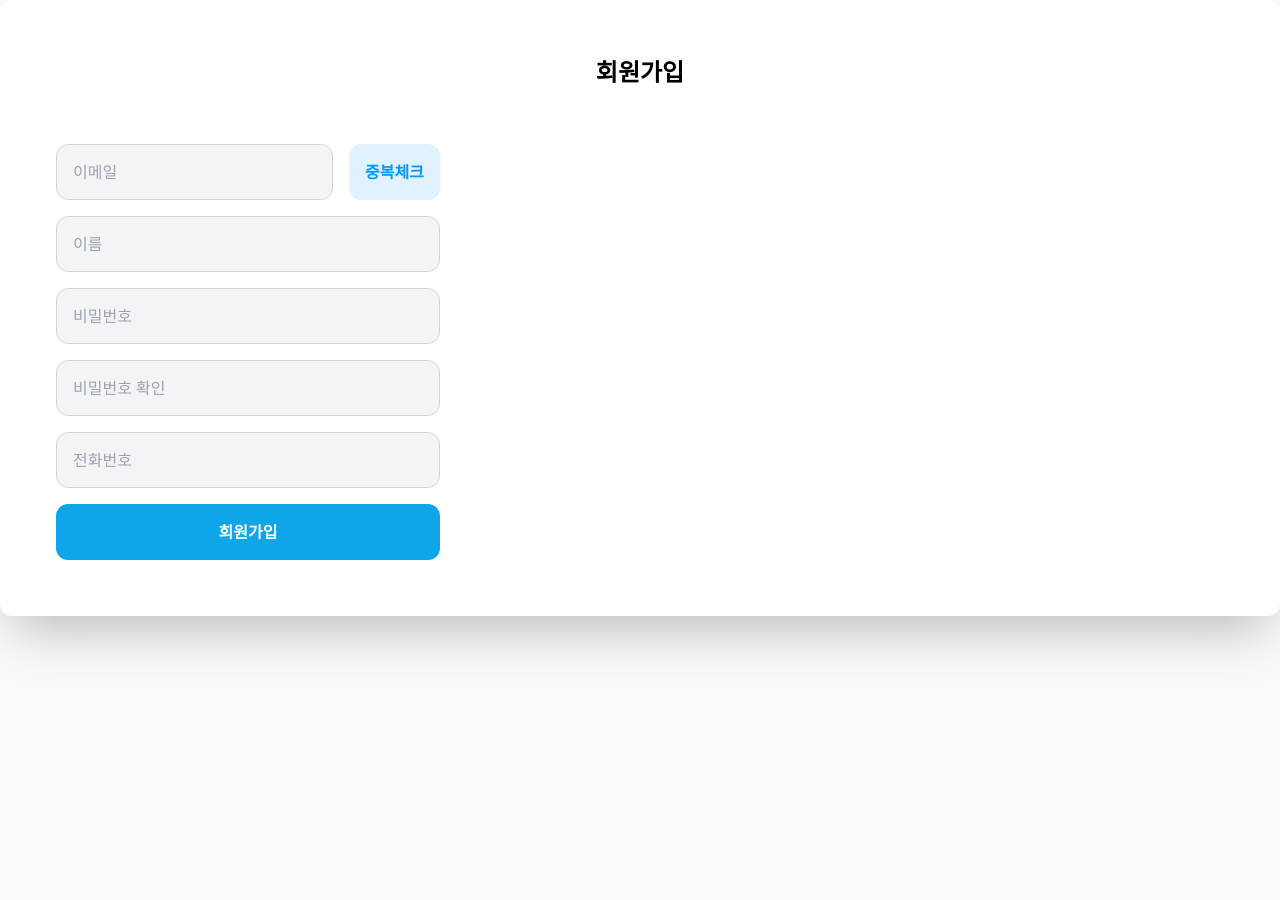
SignupForm › shows a safe fallback when the signup request fails without a response
In the field with placeholder "이메일": (195, 172) top-left (56, 144), bottom-right (333, 200), type "owner@example.com"
In the field with placeholder "이름": (248, 244) top-left (56, 216), bottom-right (440, 272), type "세차장주인"
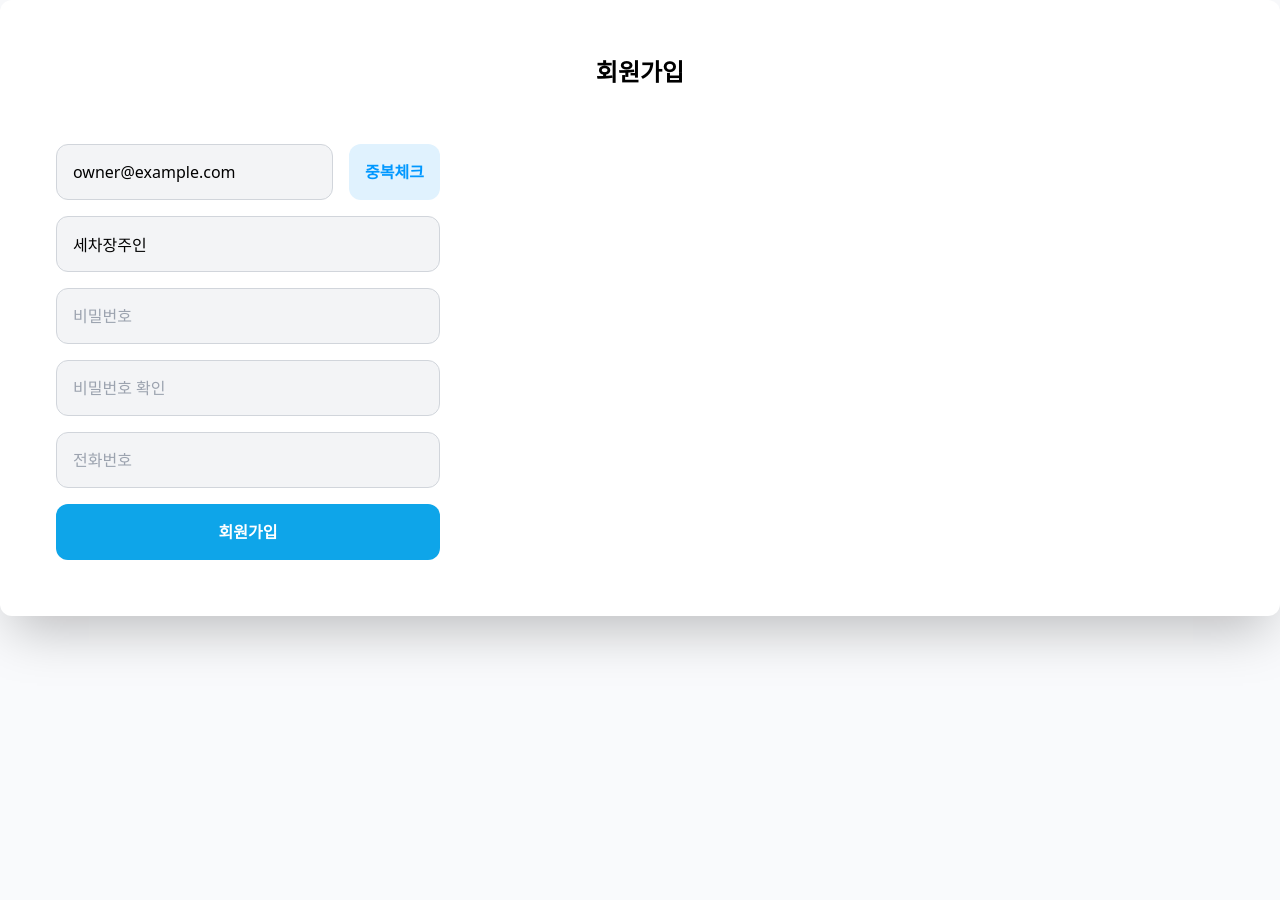
In the password field with placeholder "비밀번호": (248, 316) top-left (56, 288), bottom-right (440, 344), type "Password1!"
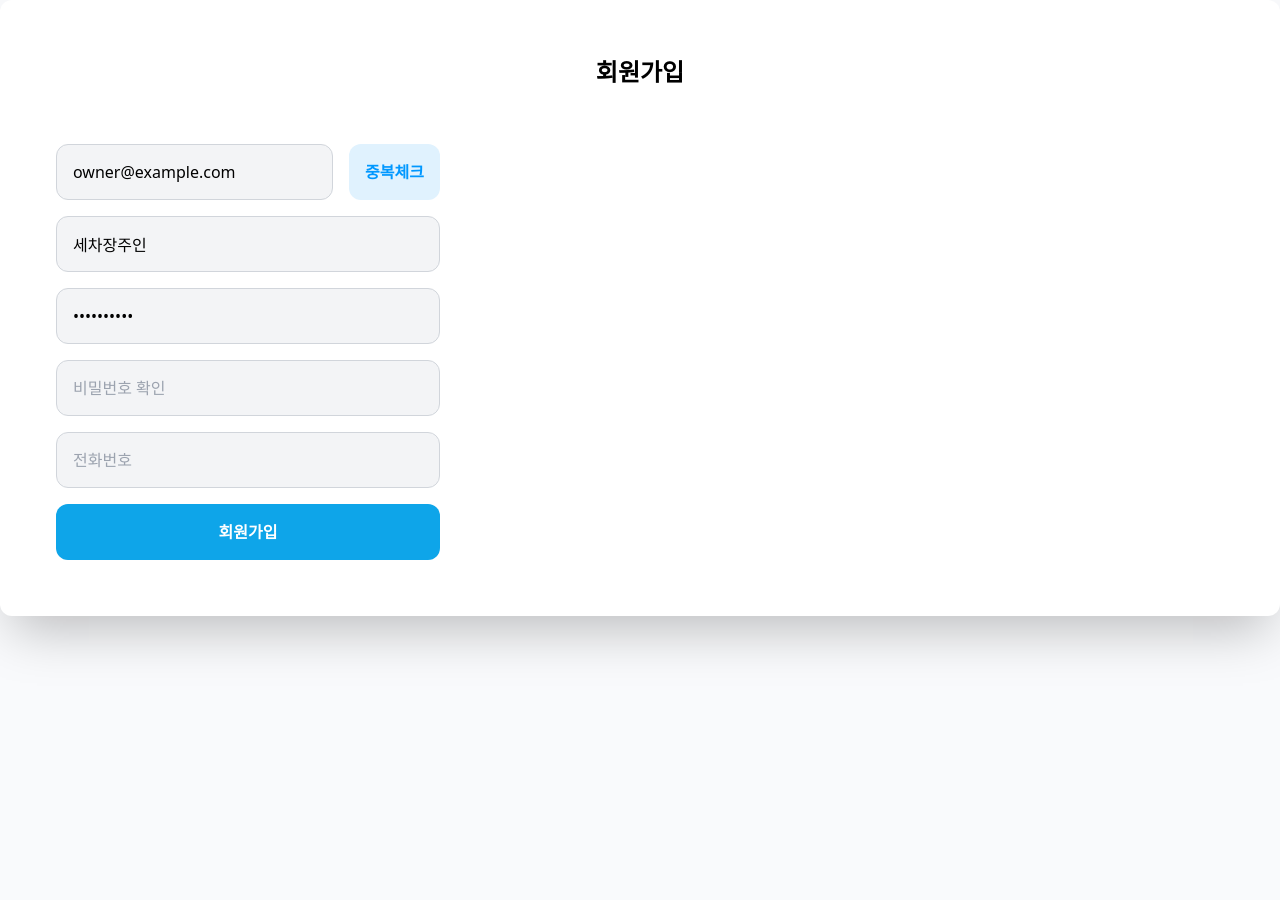
In the password field with placeholder "비밀번호 확인": (248, 388) top-left (56, 360), bottom-right (440, 416), type "Password1!"
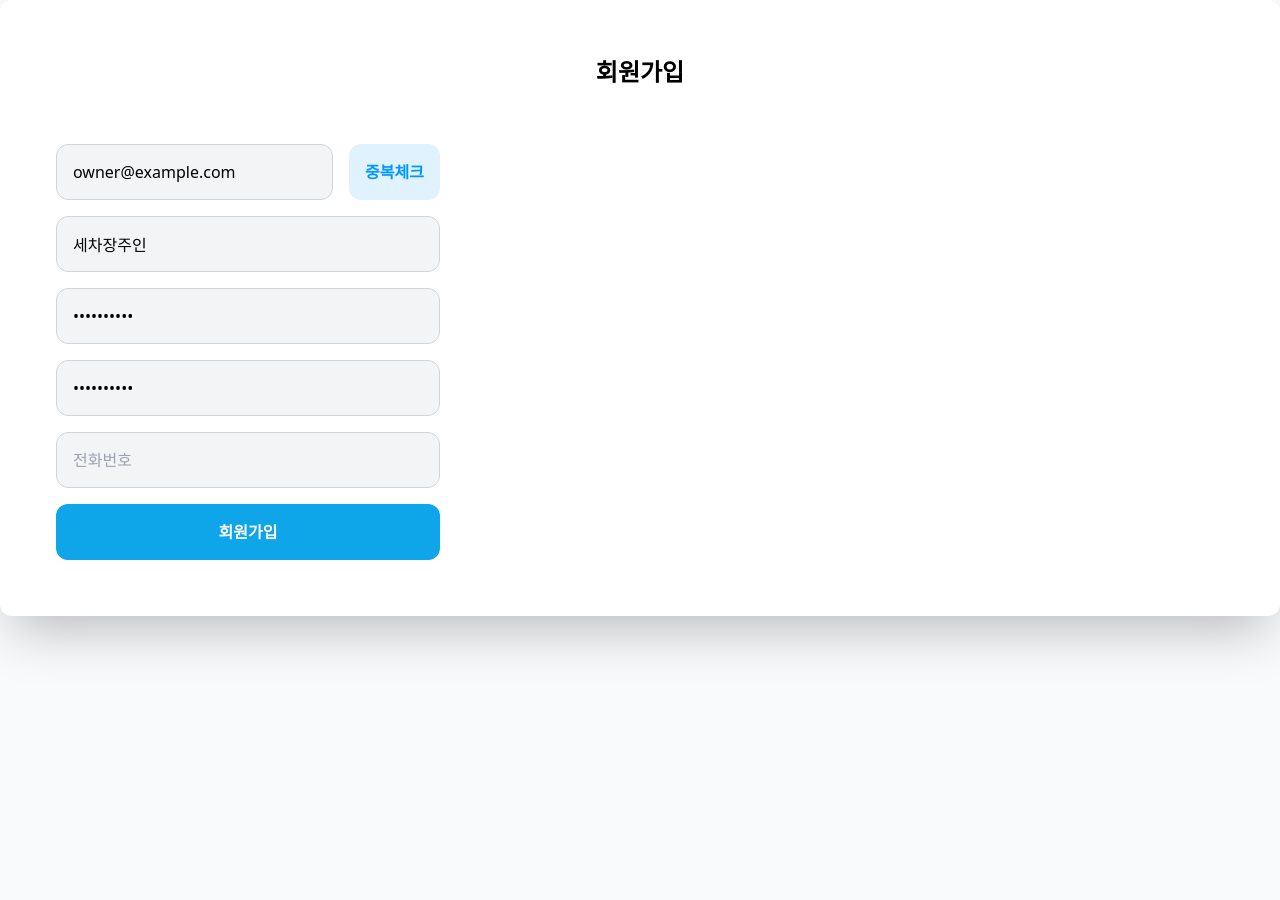
In the field with placeholder "전화번호": (248, 460) top-left (56, 432), bottom-right (440, 488), type "01012345678"
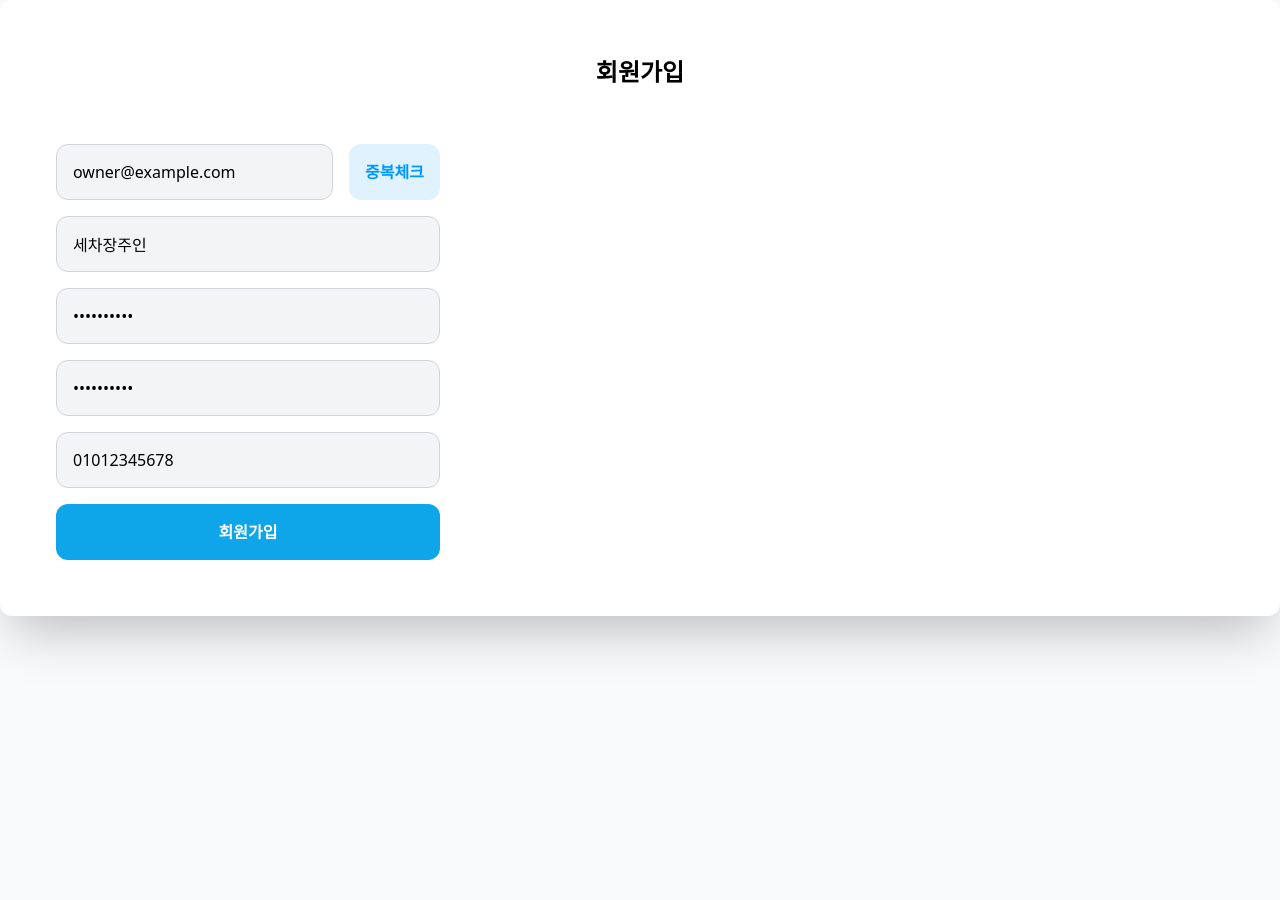
Click the button "중복체크": (395, 172) top-left (349, 144), bottom-right (440, 200)
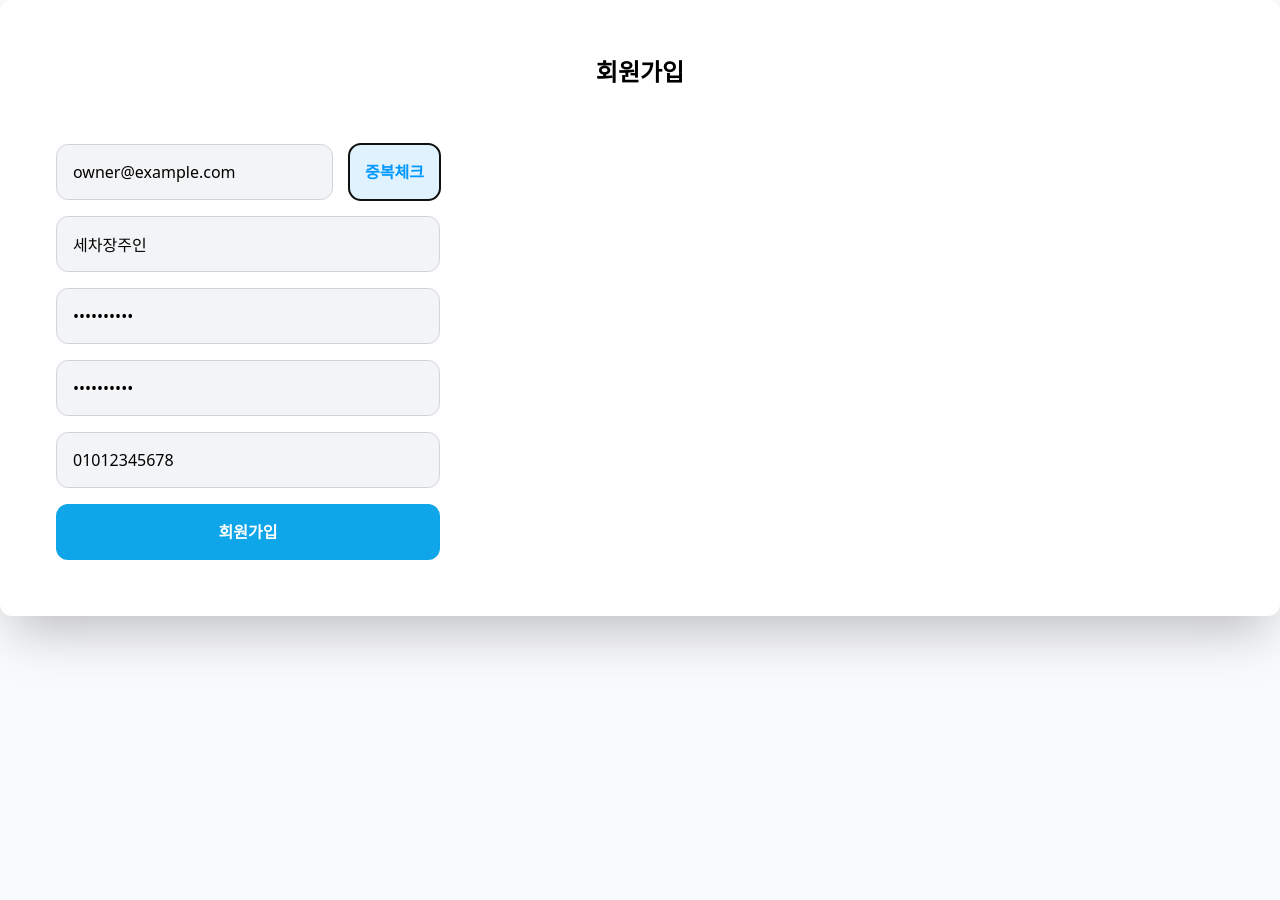
Click the button "회원가입": (248, 532) top-left (56, 504), bottom-right (440, 560)
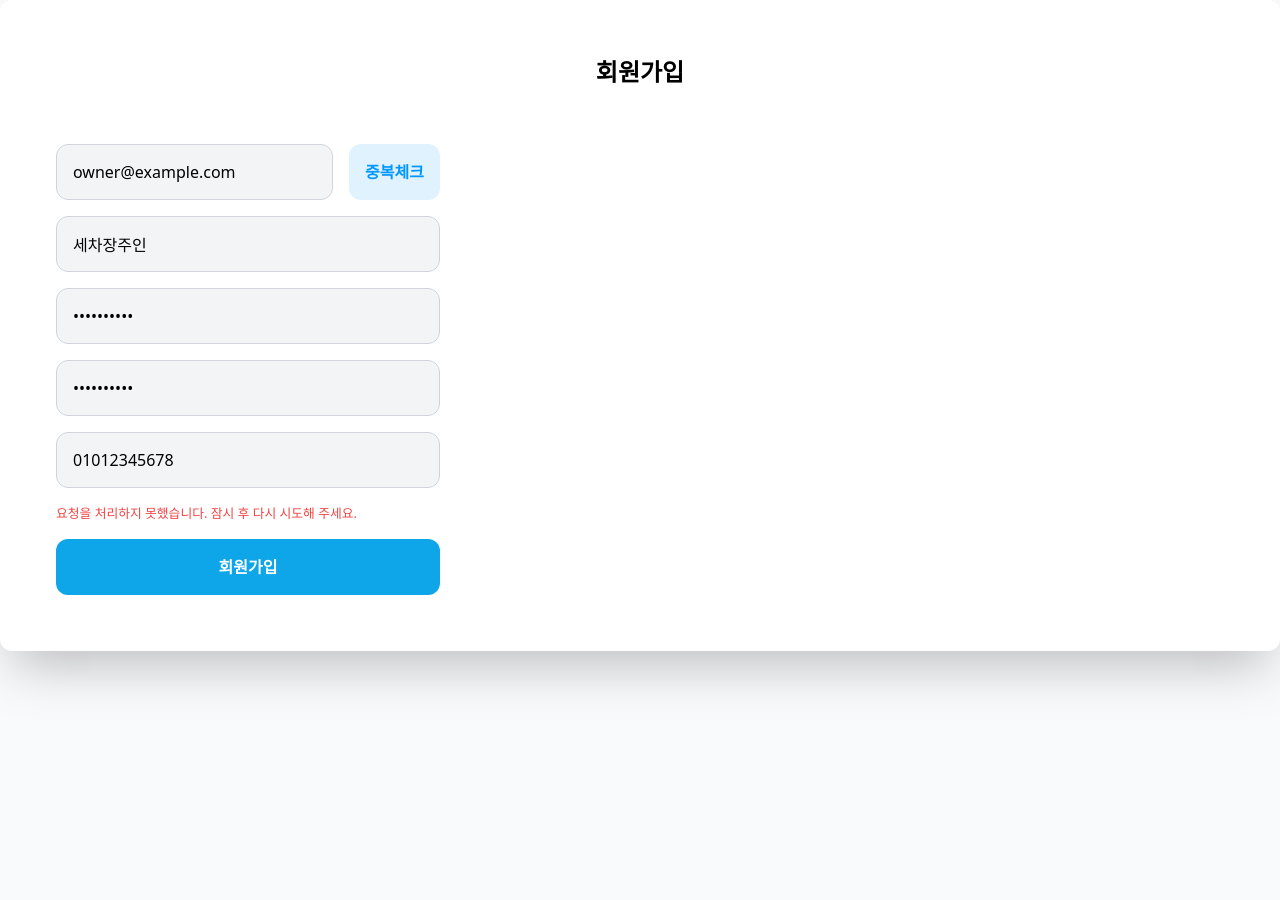
Now the text "요청을 처리하지 못했습니다. 잠시 후 다시 시도해 주세요." is shown, box top-left (56, 504), bottom-right (357, 522)
